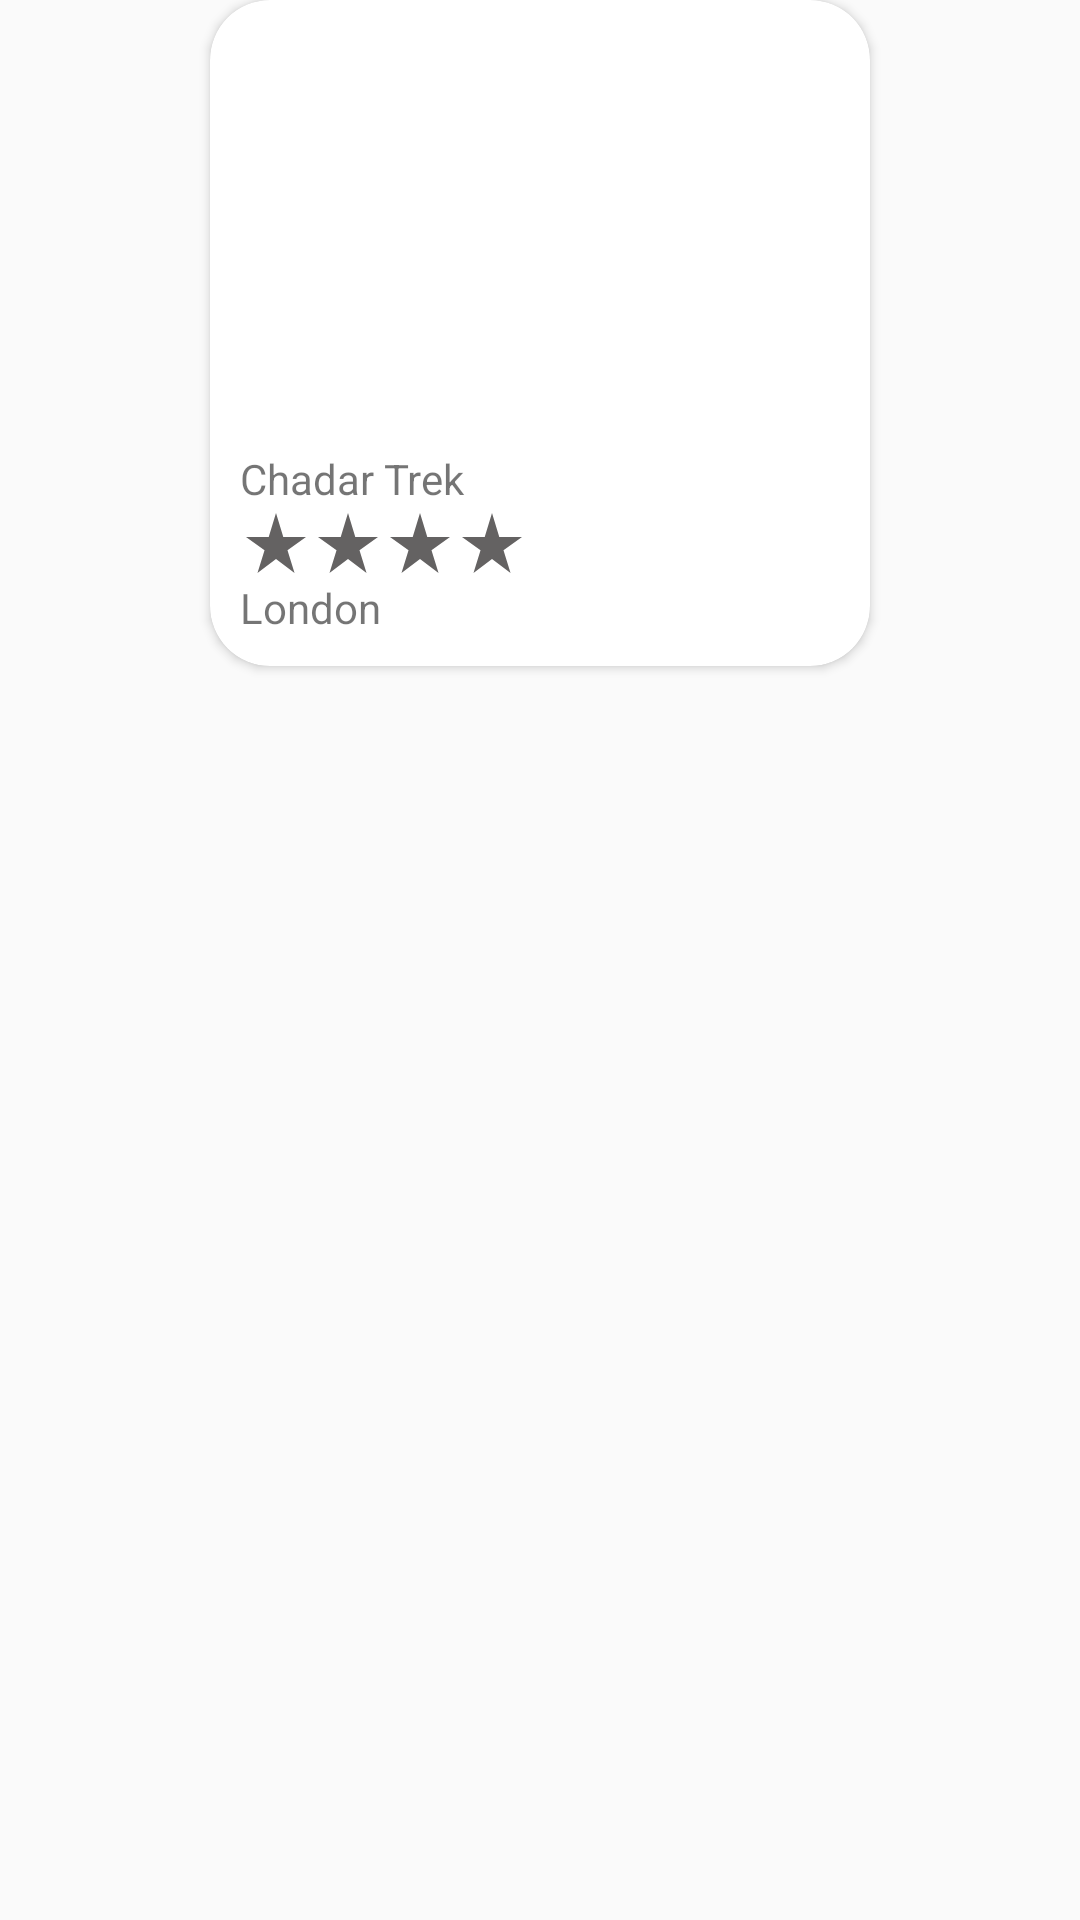

Screen size 1080 x 1920. Icon name, then its box in pixels as (x1,y1,x2,y2):
star rate: (246,514,306,573), (318,514,378,573), (390,514,450,573), (462,514,522,573)
